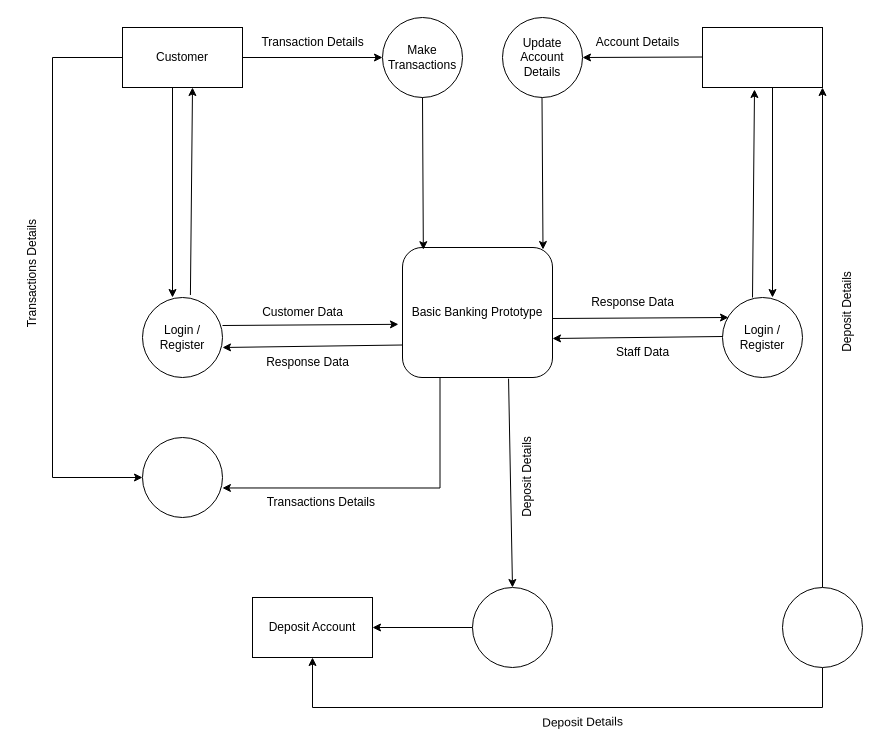
The diagram is 880 pixels wide and 756 high, and some of its shapes have lost their labels. The shapes that lost their labels are listed below. From the top down, each one's box as (x1, y1, x2, y2) in pixels, then its label:
(702, 26, 822, 88): Staff
(142, 436, 222, 518): View Statement
(472, 586, 552, 668): Save Transactions
(782, 586, 862, 668): View Deposit
